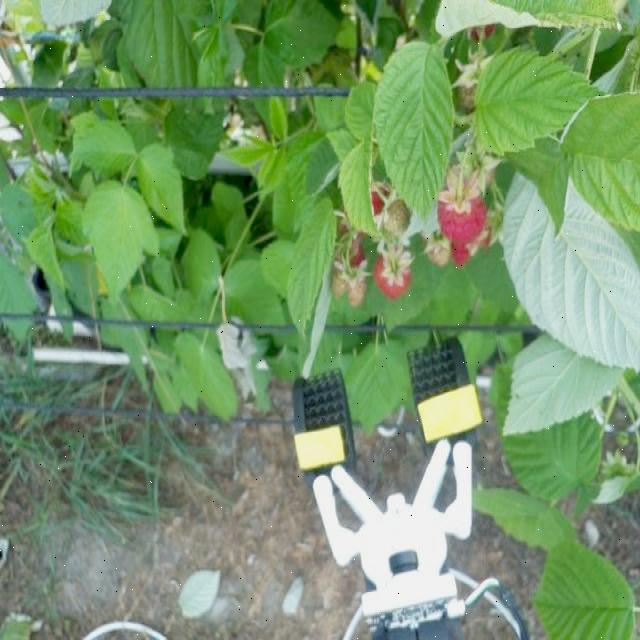Riped berries: (438, 176, 492, 236), (375, 246, 416, 297), (364, 177, 396, 217), (450, 236, 490, 266)
